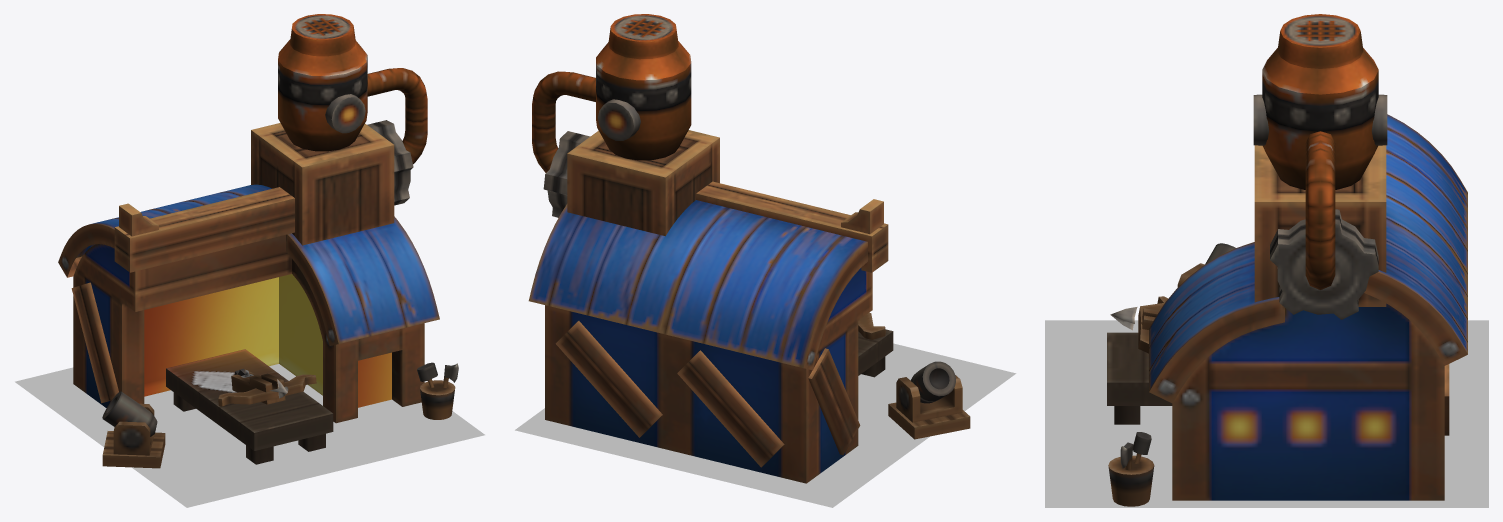
Rendered from C_MechanicShop_LV1.fbx.
3 views of the same model, side by side, from view 1: azimuth 30°, elevation 25°; view 2: azimuth 150°, elevation 25°; view 3: azimuth 270°, elevation 25° (orthographic). The views are drawn at different scales.
Visible parts, largest first — view 1: Mechanic_LV01_0_mesh, Mechanic_LV01_1_mesh; view 2: Mechanic_LV01_0_mesh, Mechanic_LV01_1_mesh; view 3: Mechanic_LV01_0_mesh, Mechanic_LV01_1_mesh.
Boxes of the visible parts, <box> form: Mechanic_LV01_0_mesh: <box>58,14,458,468</box>; Mechanic_LV01_1_mesh: <box>15,364,484,507</box>; Mechanic_LV01_0_mesh: <box>528,14,970,483</box>; Mechanic_LV01_1_mesh: <box>515,343,1016,507</box>; Mechanic_LV01_0_mesh: <box>1107,14,1467,506</box>; Mechanic_LV01_1_mesh: <box>1045,320,1488,507</box>.
Size of the model in its own units: 148 by 132 by 120.
